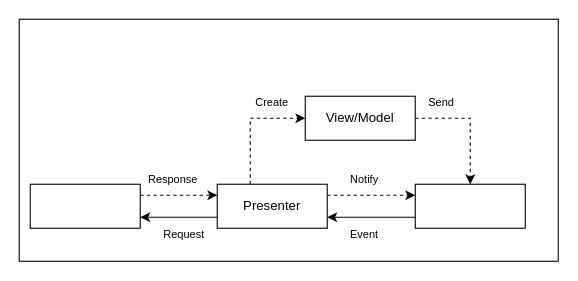
Some shapes in this 578 by 281 pixel diagram are drawn without their labels. The centre of each missing label's shape, as x and y in pixels:
"Controller/View" belongs at point (469, 205).
"Model" belongs at point (84, 205).
